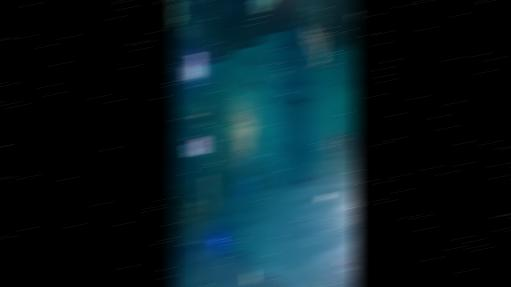Fish: (304, 24, 327, 70), (331, 133, 344, 155), (322, 152, 337, 171), (323, 129, 336, 150), (346, 133, 357, 154), (342, 148, 353, 167), (254, 0, 271, 12), (259, 167, 270, 184), (264, 161, 275, 176), (243, 176, 254, 190), (259, 181, 270, 194), (278, 67, 287, 82), (291, 177, 312, 183), (259, 79, 268, 91), (235, 69, 244, 80), (248, 75, 256, 87), (317, 193, 330, 200), (339, 255, 348, 265), (261, 96, 270, 106), (261, 65, 268, 77), (288, 99, 307, 103), (242, 58, 249, 68), (350, 13, 357, 22), (238, 83, 245, 91), (250, 59, 257, 67), (257, 60, 264, 68), (298, 182, 305, 189)
